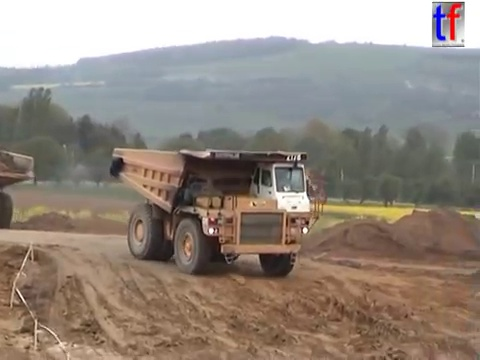truck: (107, 144, 329, 277), (1, 148, 36, 231)
